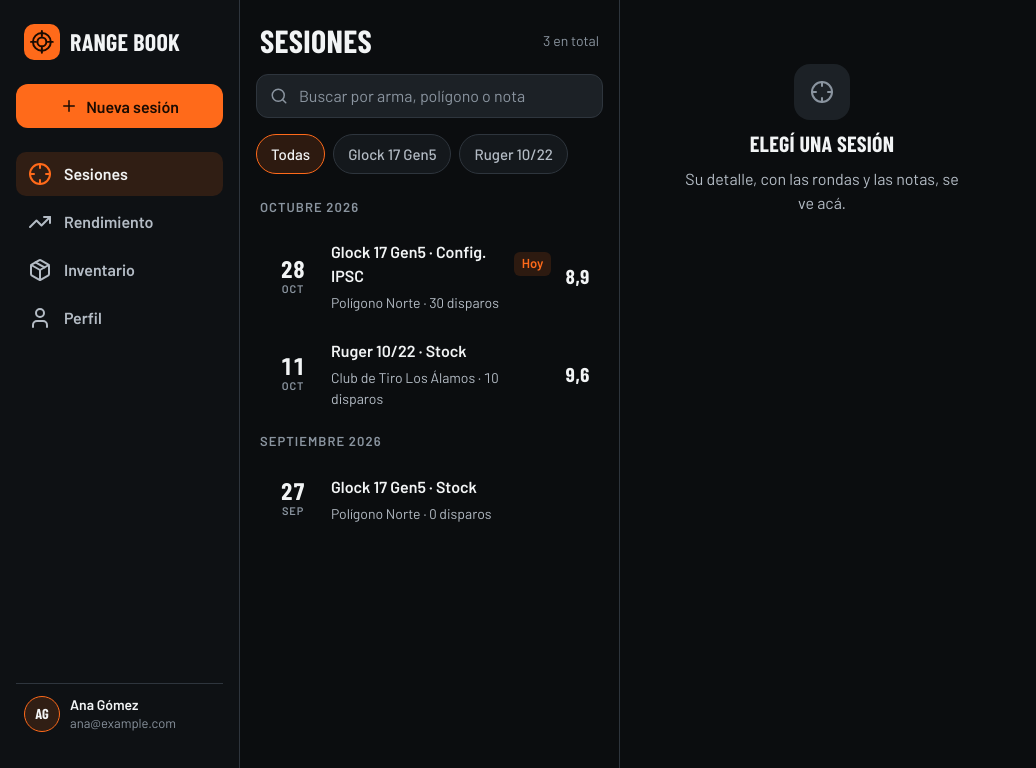
Scenario: SessionsScreen › desktop › muestra la lista y el detalle de la sesión elegida a la vez
Expected: the heading "Elegí una sesión" is shown, [750, 132, 894, 155]
Expected: the text "3 en total" is shown, [543, 30, 599, 51]
Step 1. Click the link "Ruger 10/22" → (430, 374), box [256, 328, 603, 420]
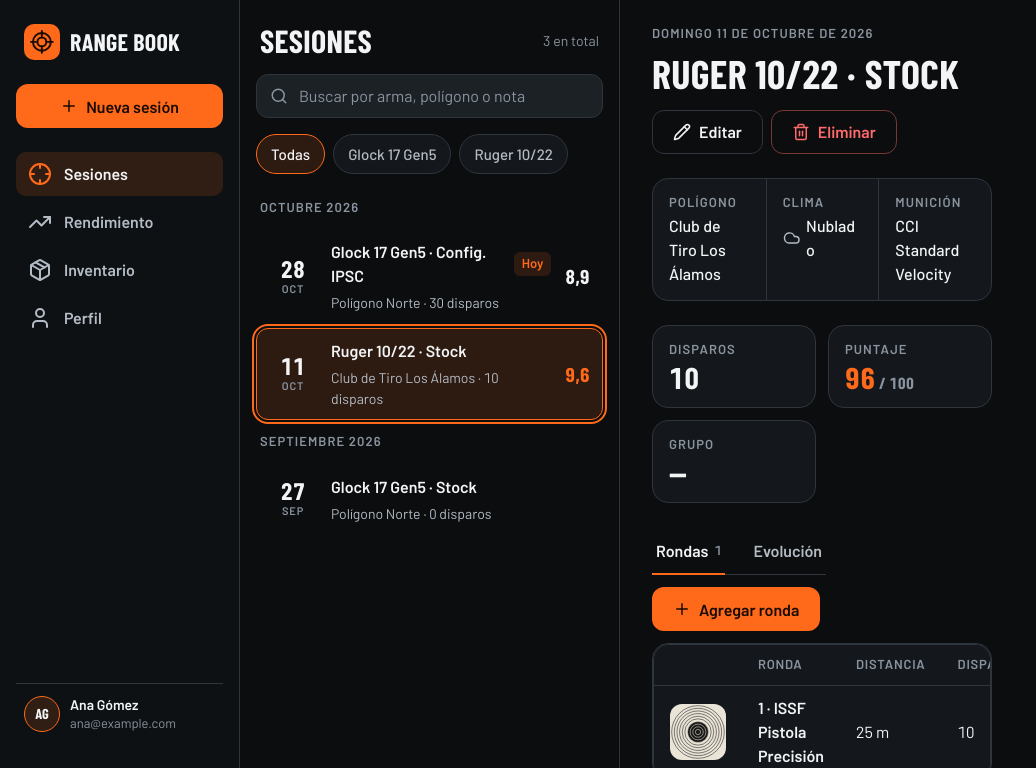
Expected: the heading "Sesiones" is shown, [260, 24, 372, 58]
Now the heading "Ruger 10/22 · Stock" is shown, box [652, 52, 959, 94]
